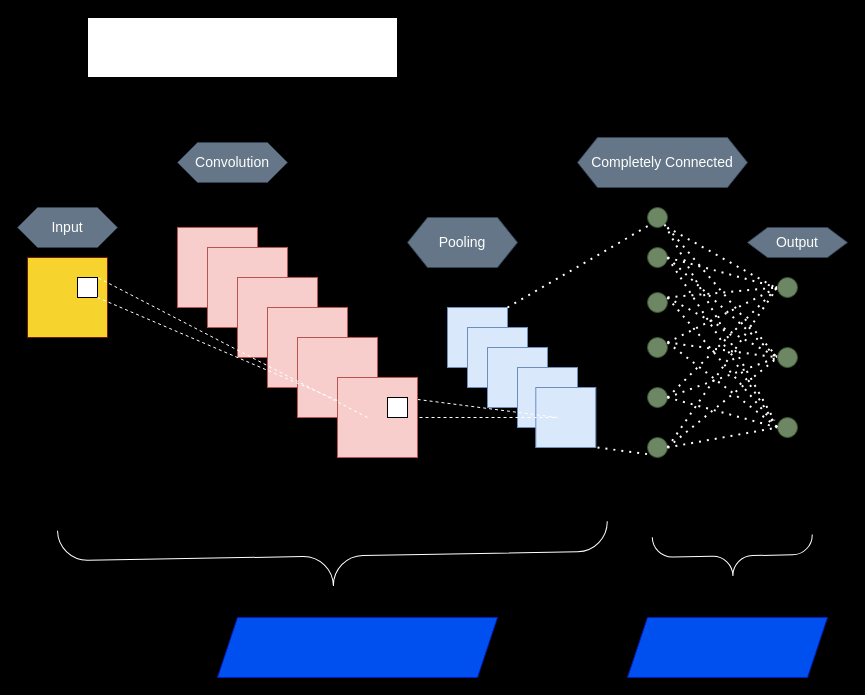
Some shapes in this 865 by 695 pixel diagram are drawn without their labels. The box of each missing label's shape, as (x1, y1, x2, y2) in pixels:
C.N.N. Diagram:-: (86, 16, 398, 78)
Classification: (626, 616, 828, 678)
Feature Extraction: (216, 616, 498, 678)
